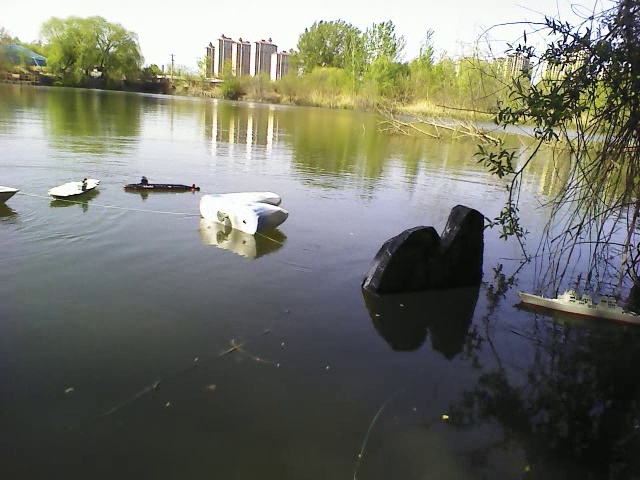aircraft_carrier: (47, 169, 107, 205)
boat: (2, 175, 21, 211)
iceberg: (197, 189, 289, 236)
rock: (366, 203, 486, 298)
submarine: (126, 177, 202, 195)
warship: (516, 283, 637, 328)
